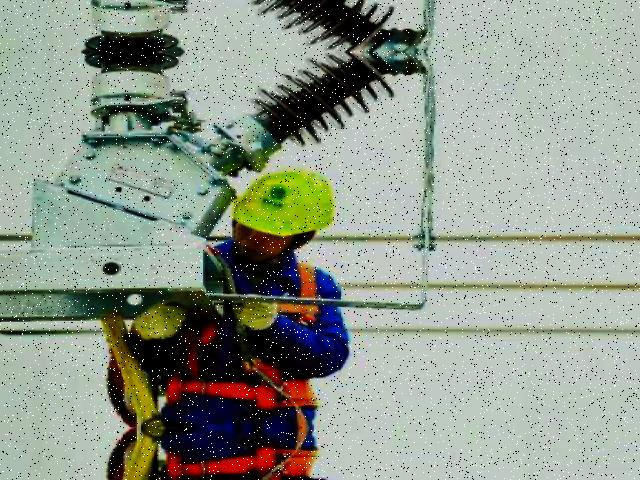Helmet: (226, 165, 340, 249)
